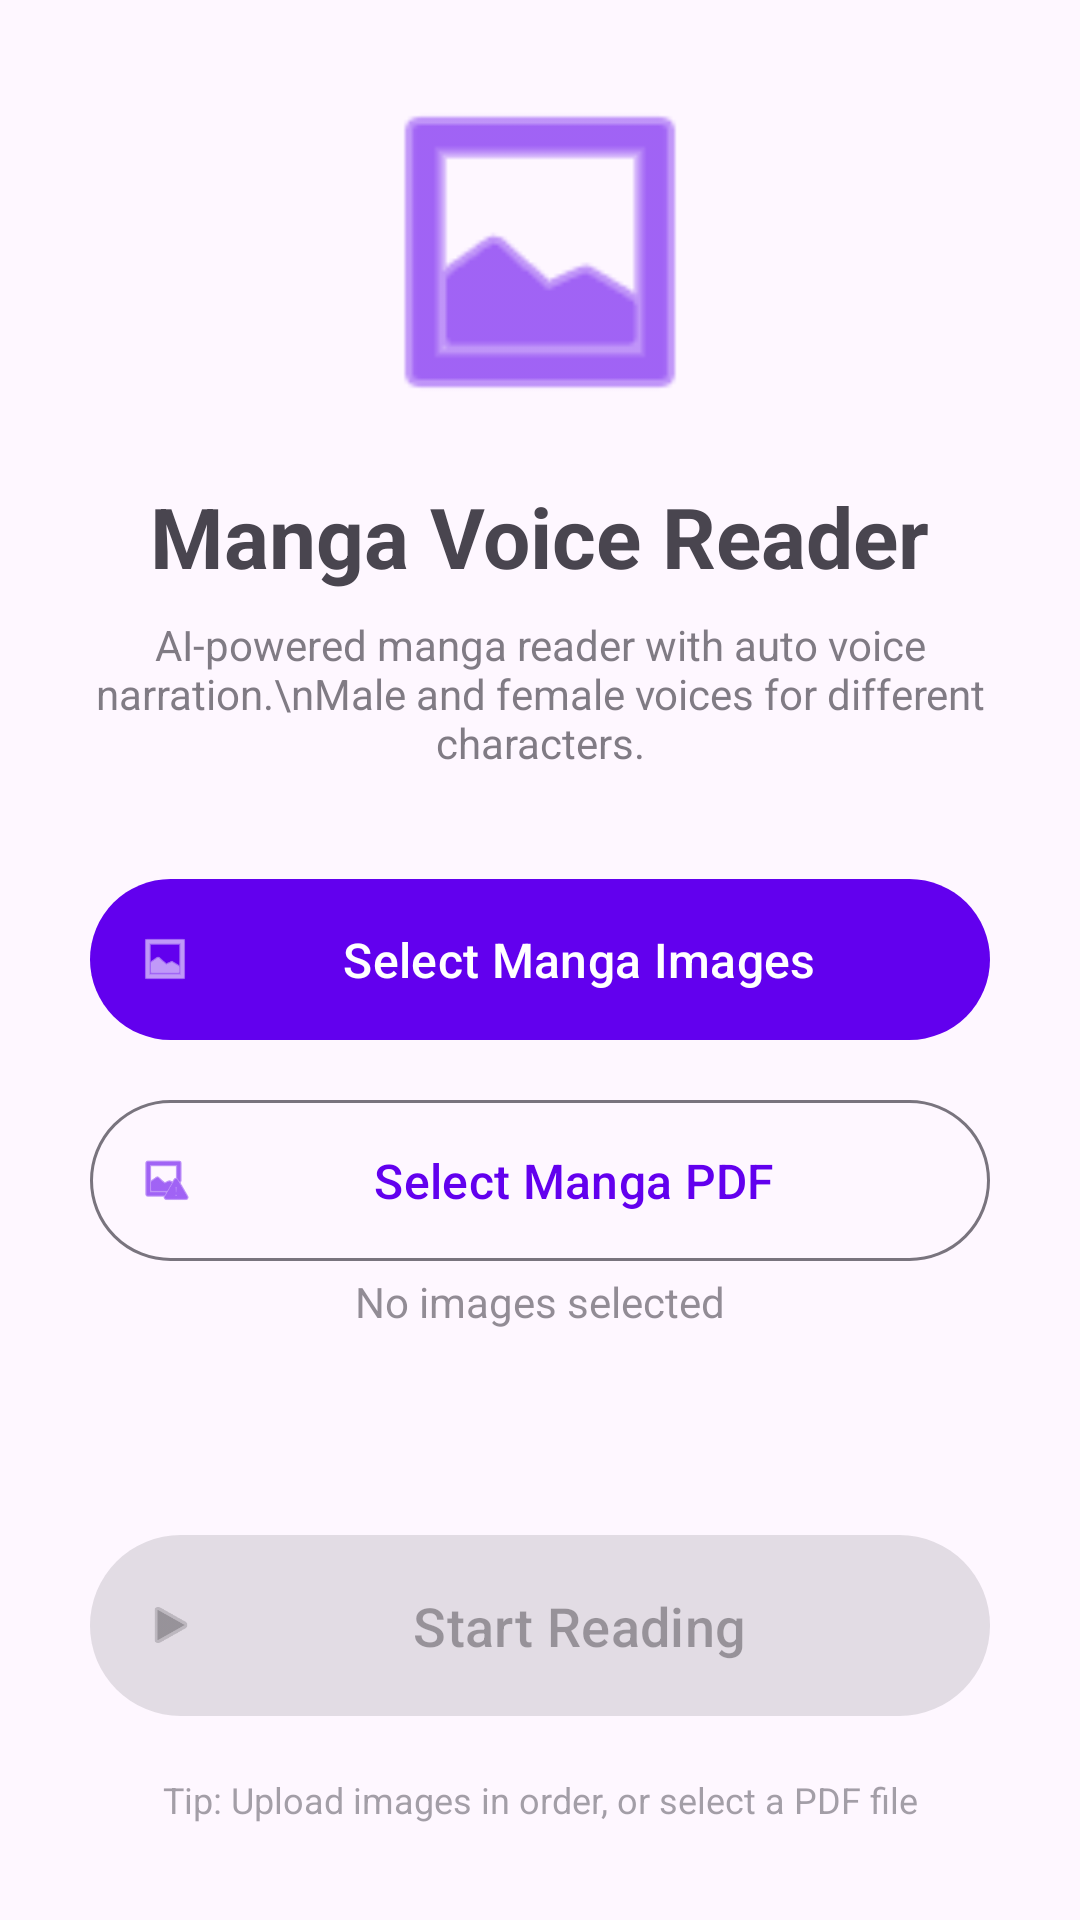

Named icons in this screenshot (1080w x 1920h) and their centers, (x=x, y=y):
gallery: (x=540, y=252)
